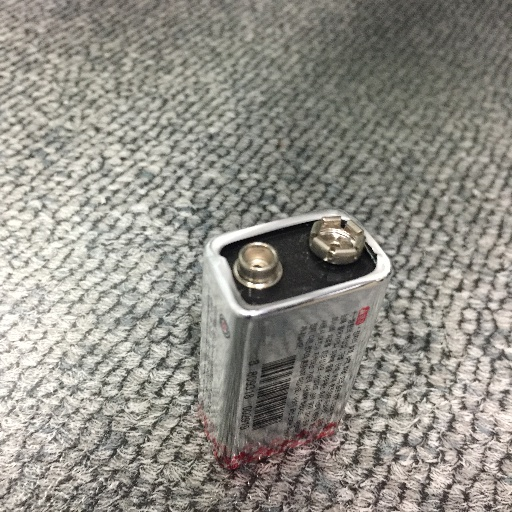Battery_3: (185, 183, 401, 477)
